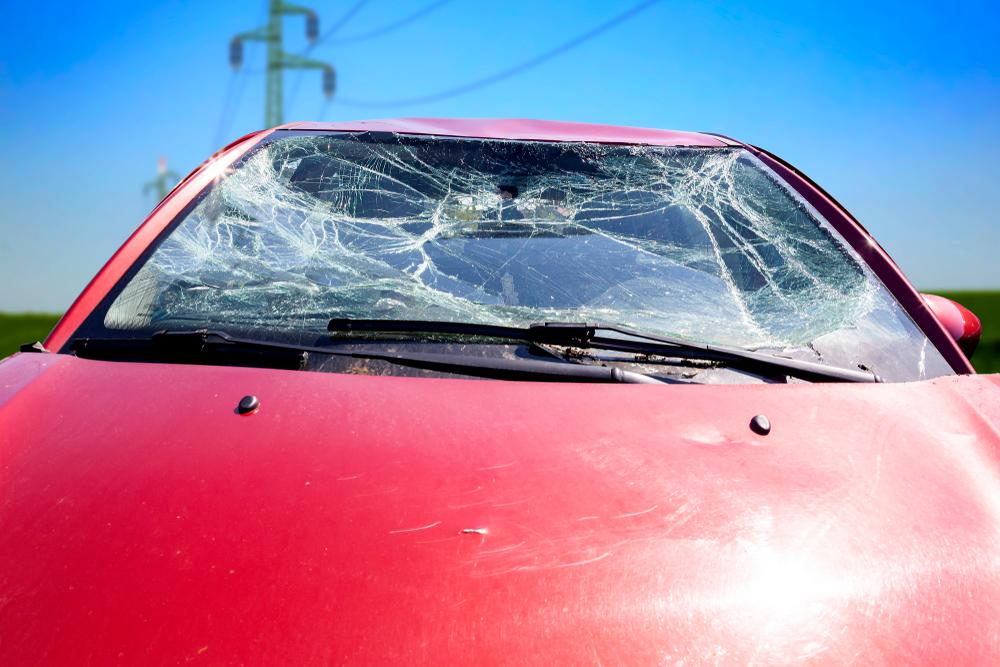dent: (324, 119, 728, 147)
glass shatter: (112, 129, 956, 378)
